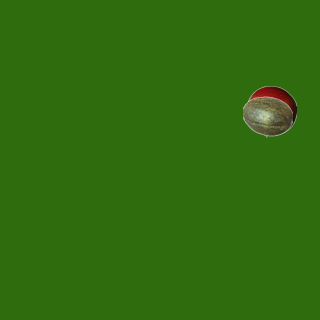Apple Braeburn: (246, 85, 296, 135)
Melon Piel de Sapo: (242, 91, 292, 141)
